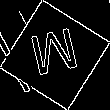M_S: (27, 25, 83, 85)
